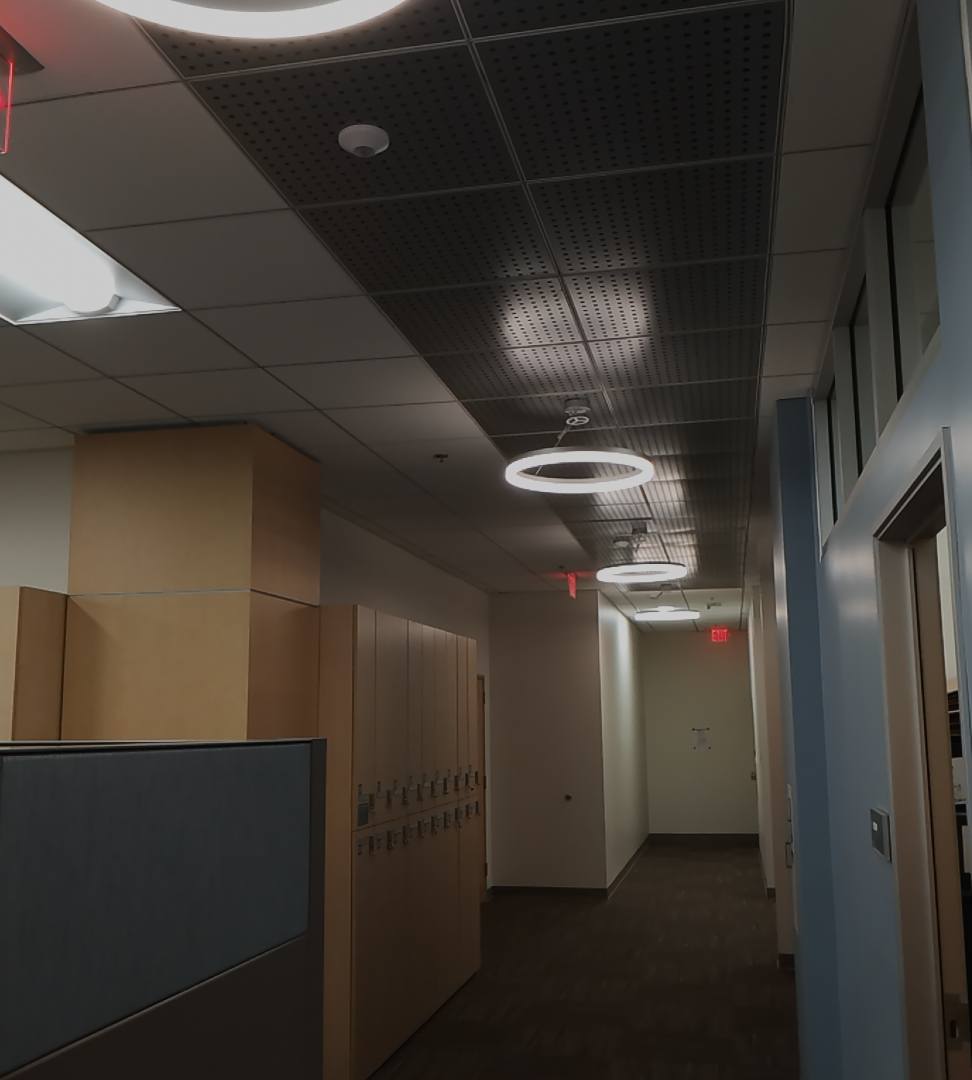emergency_exit: (708, 623, 731, 644)
